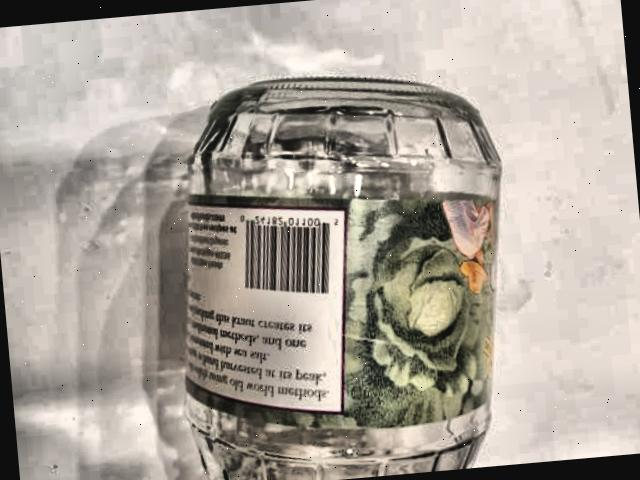Almennt: (142, 51, 545, 480)
